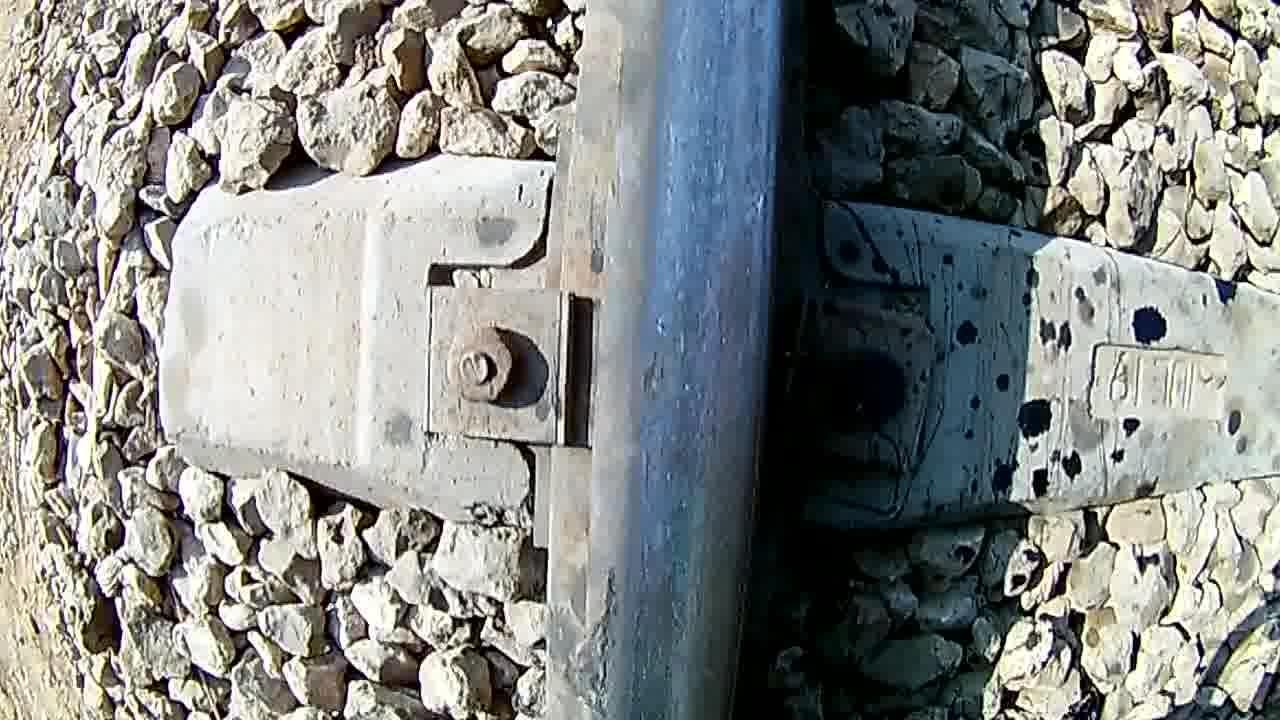crack: (609, 2, 786, 720)
